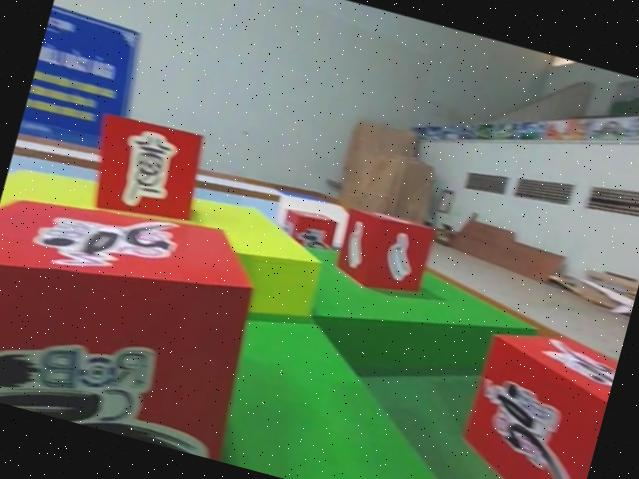R1: (0, 168, 281, 461), (445, 315, 621, 479), (276, 201, 339, 254)
R2 Fake: (78, 105, 211, 233)
R2 Real: (328, 201, 437, 300)
